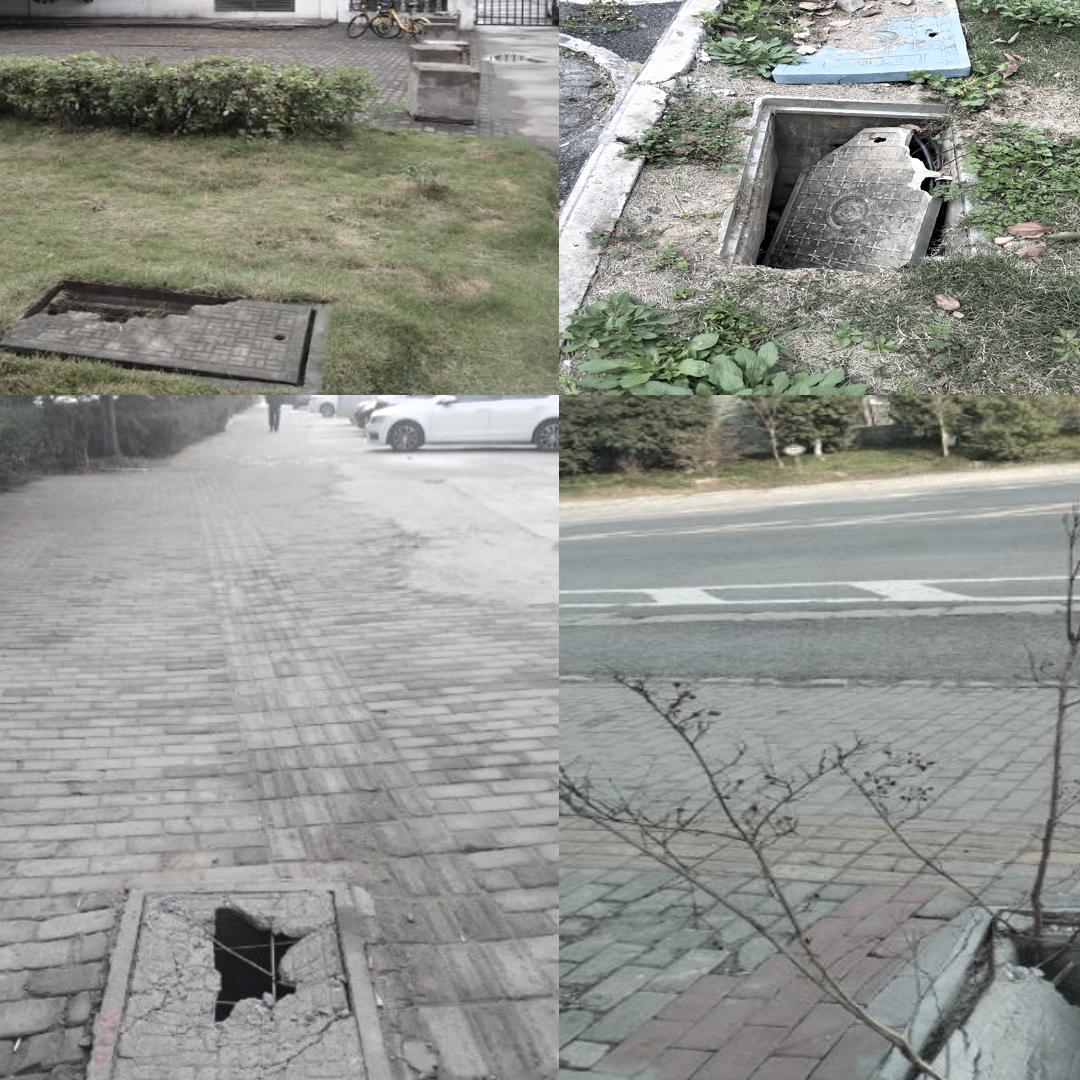broke: (57, 876, 421, 1080), (703, 93, 1000, 270), (831, 906, 1080, 1080), (0, 278, 332, 395)
